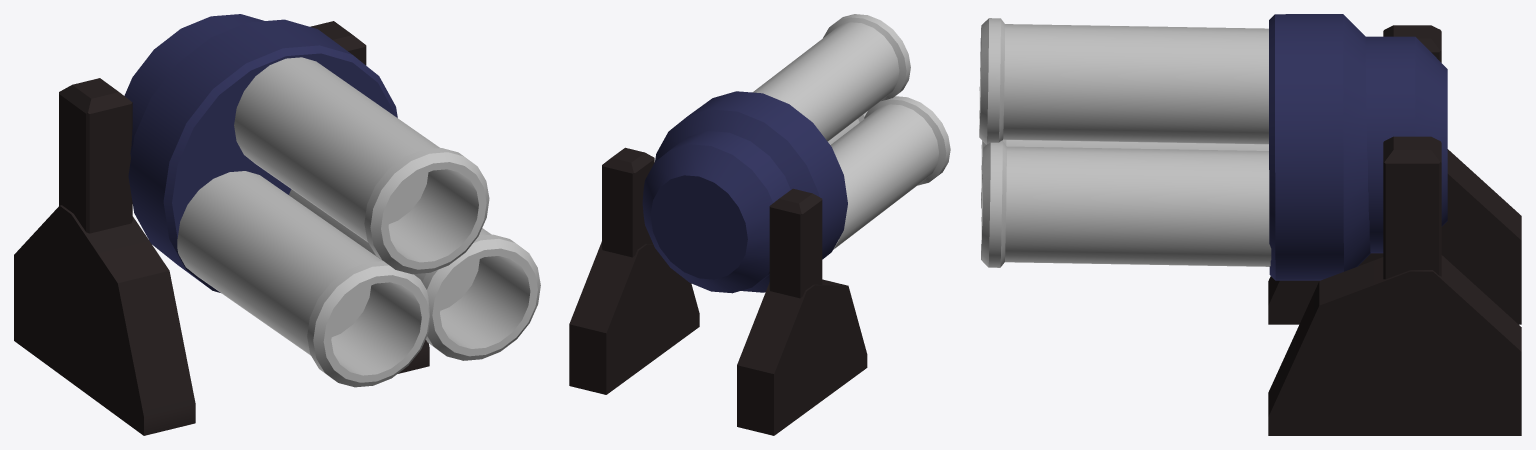
Rendered from Cannon.fbx.
The picture shows the model from 3 angles, left to right: view 1: azimuth 30°, elevation 25°; view 2: azimuth 150°, elevation 25°; view 3: azimuth 270°, elevation 25°; orthographic projection. The views are drawn at different scales.
Parts seen in each view (by area): view 1: pCylinder5, pCube6; view 2: pCylinder5, pCube6; view 3: pCylinder5, pCube6.
Boxes of the visible parts, x1=… form: pCylinder5: x1=124, y1=14, x2=540, y2=387; pCube6: x1=14, y1=21, x2=429, y2=435; pCylinder5: x1=642, y1=14, x2=950, y2=293; pCube6: x1=569, y1=147, x2=867, y2=435; pCylinder5: x1=979, y1=14, x2=1447, y2=280; pCube6: x1=1268, y1=25, x2=1521, y2=435.
Size of the model in its own units: 5.52 by 6.5 by 9.3.
